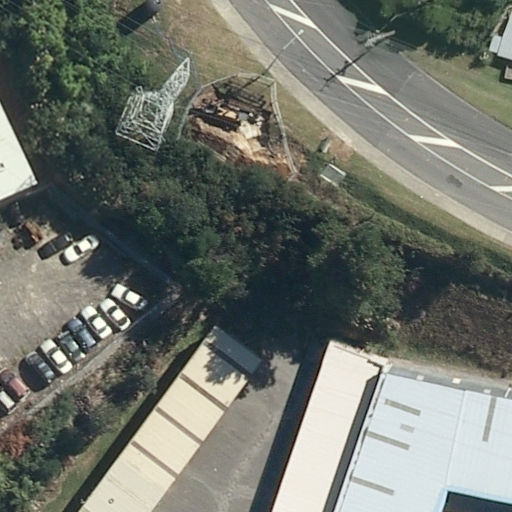DT: (361, 27, 400, 52)
TT: (112, 53, 194, 160)
